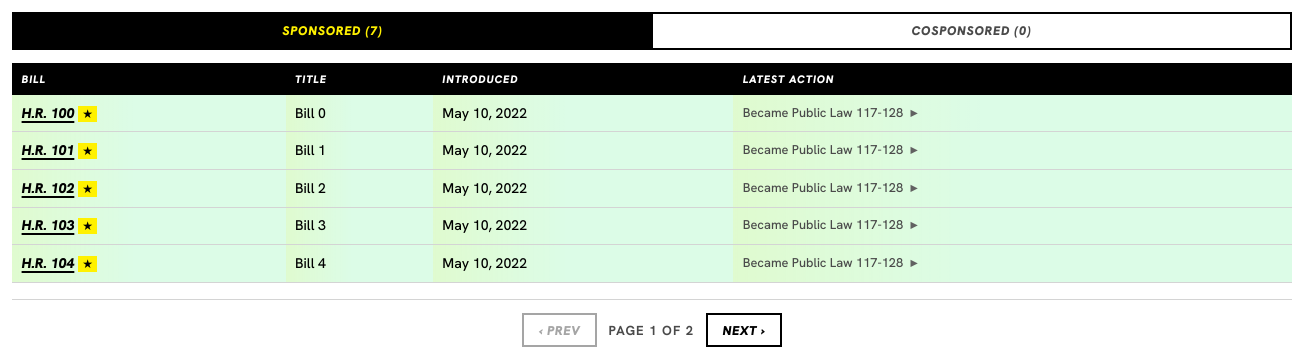
Test case: Next on the final page is disabled
What coordinates should you click on to do the following:
click the button "Next ›"
I would click on:
 (744, 330)
Its box is [706,313,782,347].
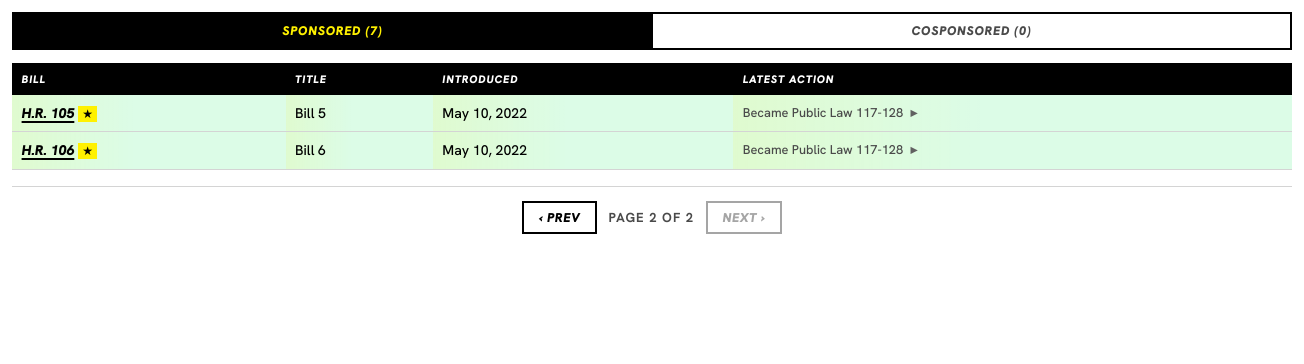
Expected: the text "Page 2 of 2" is shown, [609,209,694,226]
Expected: the button "Next ›" is disabled, [706,201,782,234]
